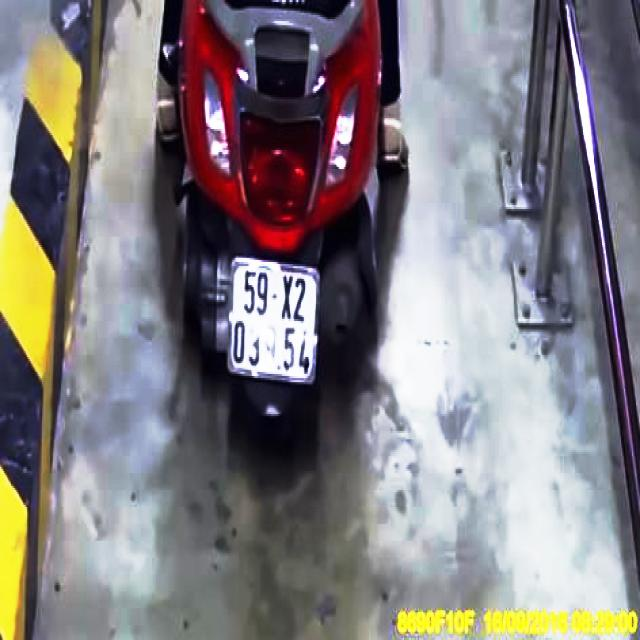license_plate: (231, 265, 324, 386)
